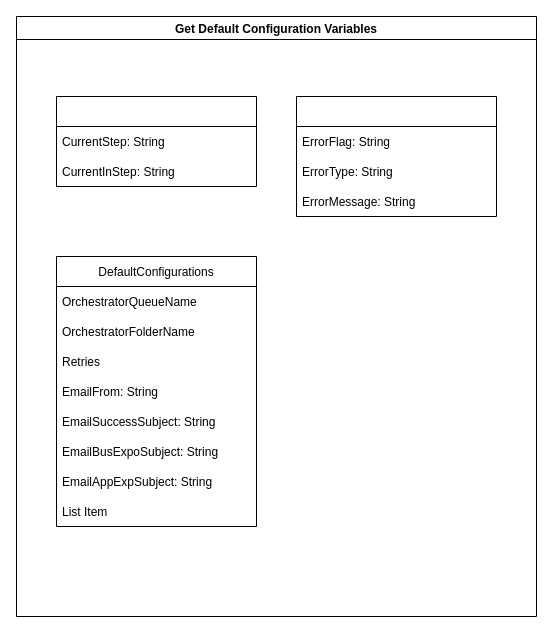
The diagram is 553 pixels wide and 633 high, and some of its shapes have lost their labels. The shapes that lost their labels are listed below. From the top down, each one's box as (x1, y1, x2, y2) in pixels, then its label:
(56, 96, 256, 186): FlowchartCurrentSteps
(296, 96, 496, 216): ErrorHandling
